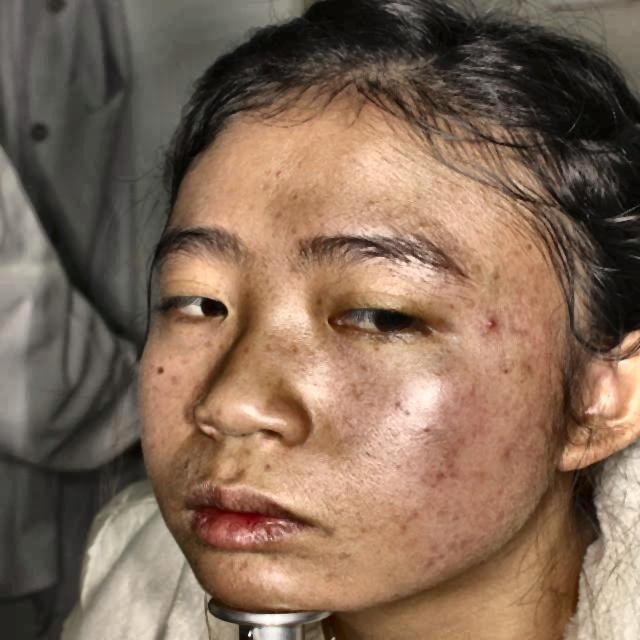comedone: (500, 431, 524, 466), (487, 310, 511, 336)
